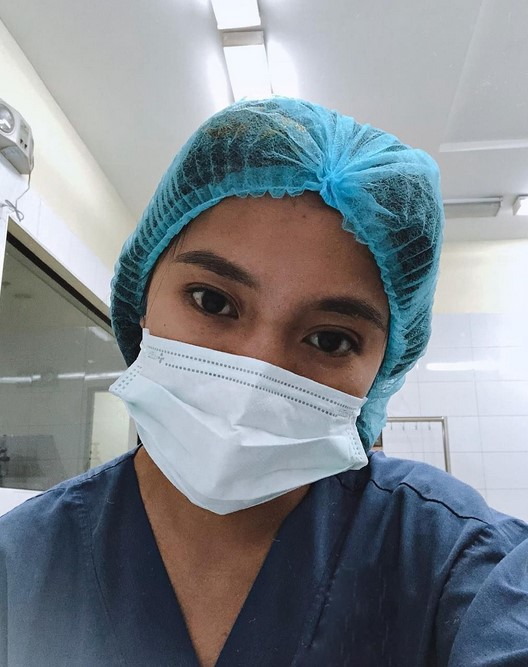face_with_mask: (109, 101, 443, 518)
